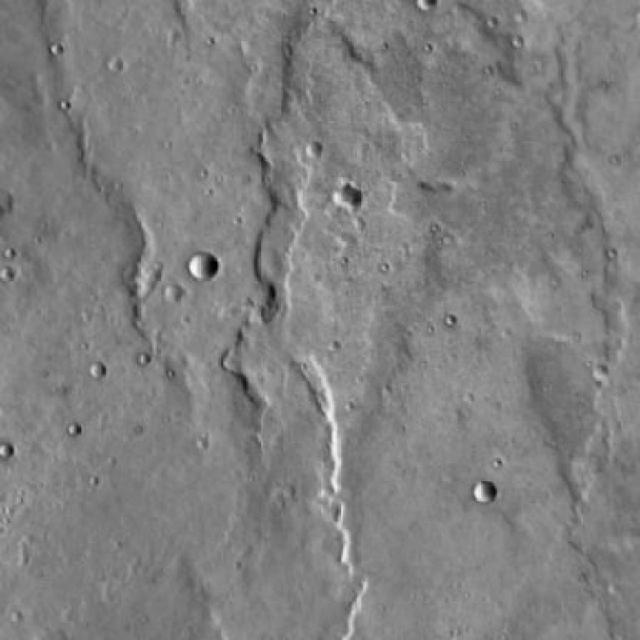crater: (189, 254, 216, 280), (472, 480, 497, 502), (338, 188, 362, 210), (414, 0, 433, 15), (592, 365, 608, 381)
